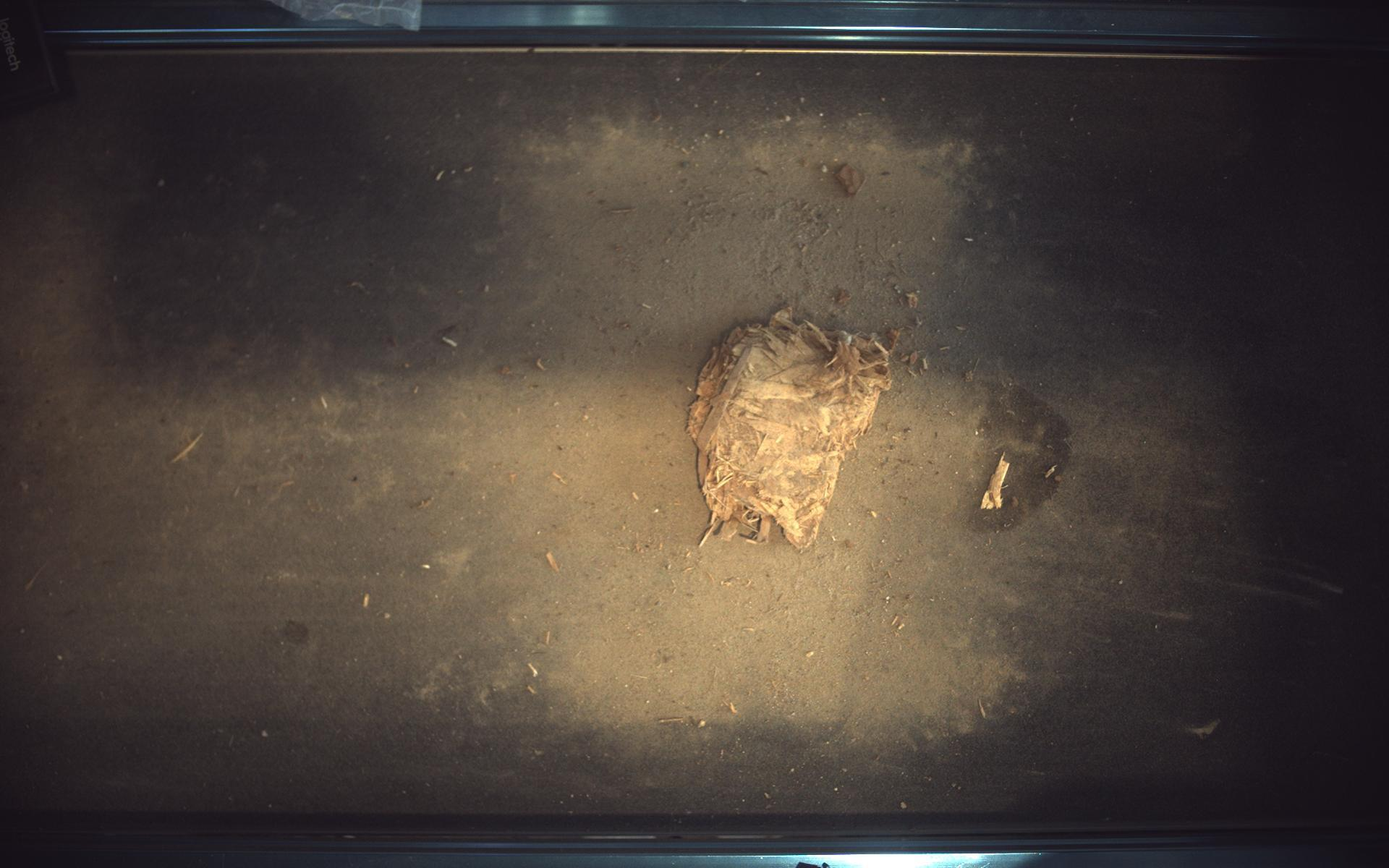wood: (689, 308, 893, 550)
